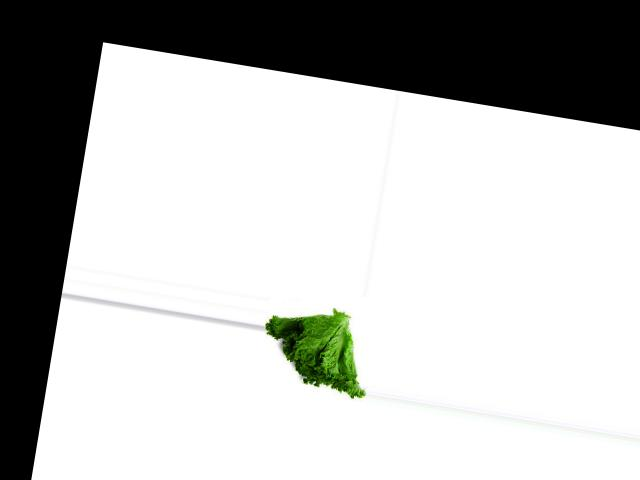lettuce: (254, 300, 378, 402)
